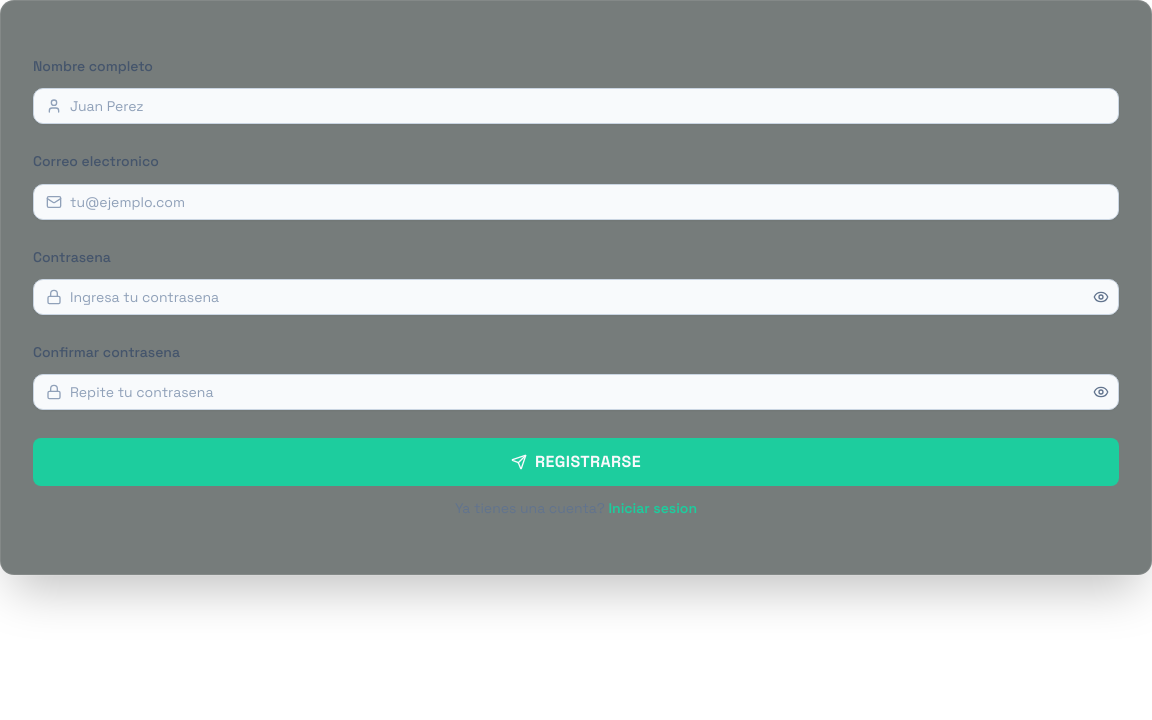
Scenario: SignUpForm › shows a validation message when the passwords do not match
Type "Ada Lovelace" into the field labelled "Nombre completo". click: (590, 106)
box: top-left (62, 88), bottom-right (1118, 124)
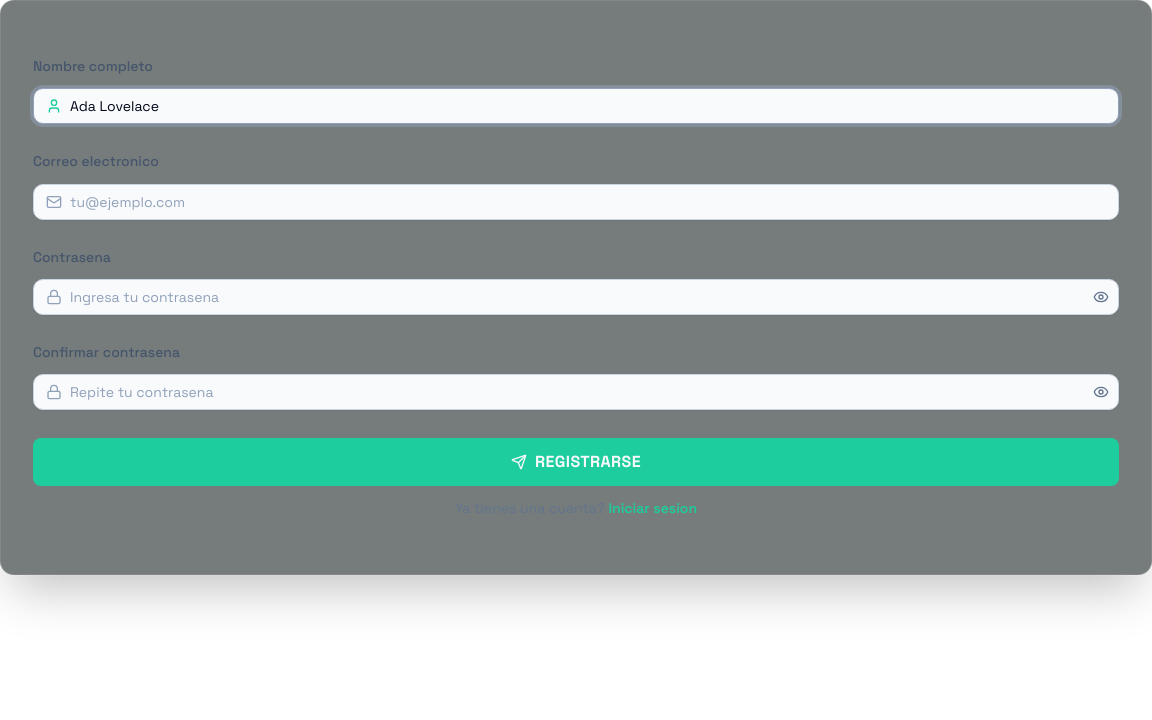
Type "ada@example.com" into the field labelled "Correo electronico". click: (590, 202)
box: top-left (62, 184), bottom-right (1118, 220)
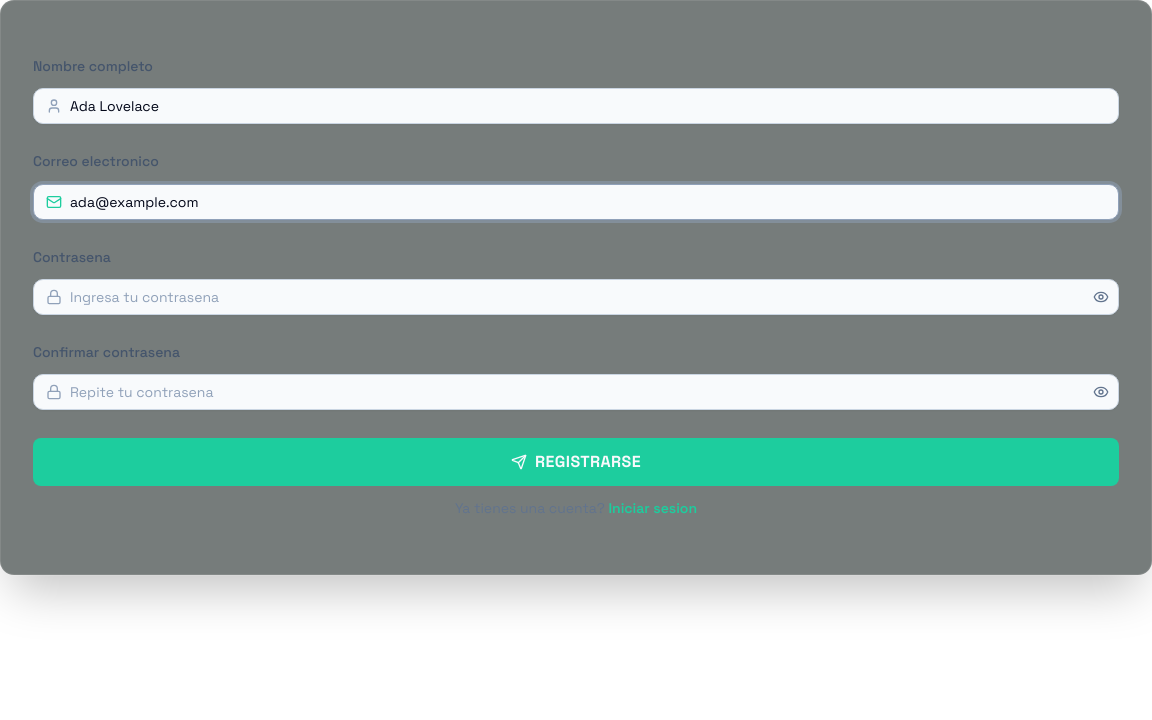
Type "Secure123" into the password field labelled "Contrasena". click: (576, 297)
box: top-left (62, 279), bottom-right (1089, 315)
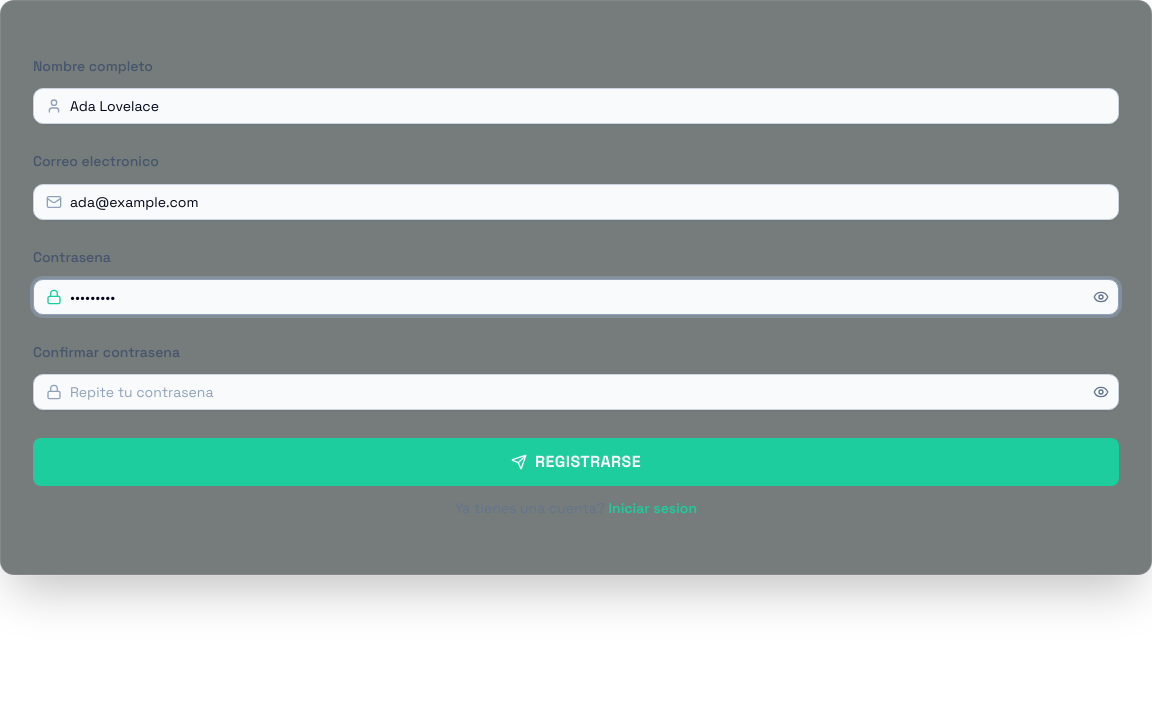
Type "Secure124" into the password field labelled "Confirmar contrasena". click: (576, 392)
box: top-left (62, 374), bottom-right (1089, 410)
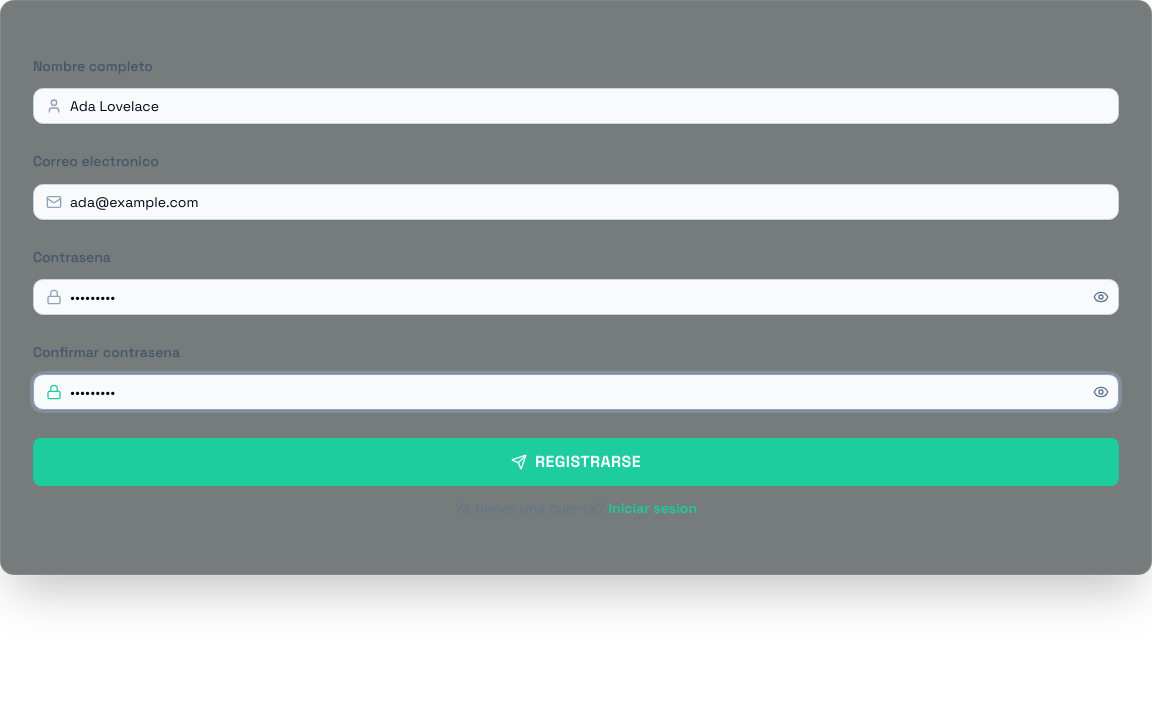
Press Tab
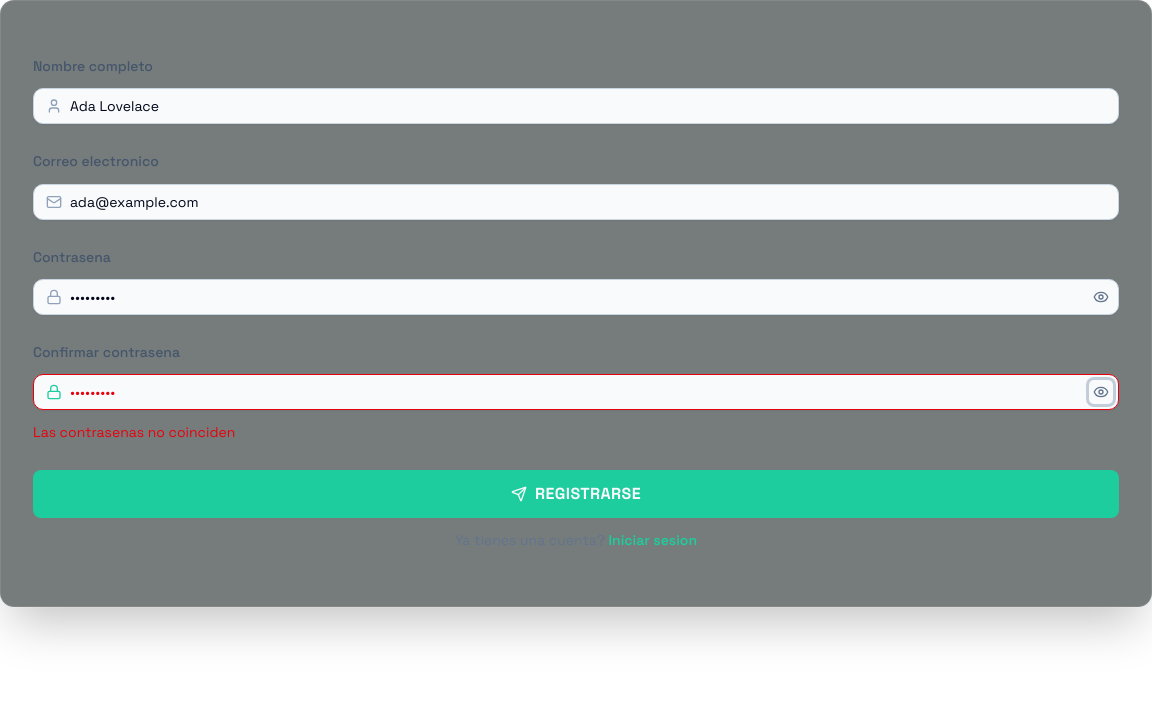
Now the message reads "Las contrasenas no coinciden", box top-left (33, 423), bottom-right (235, 441)
